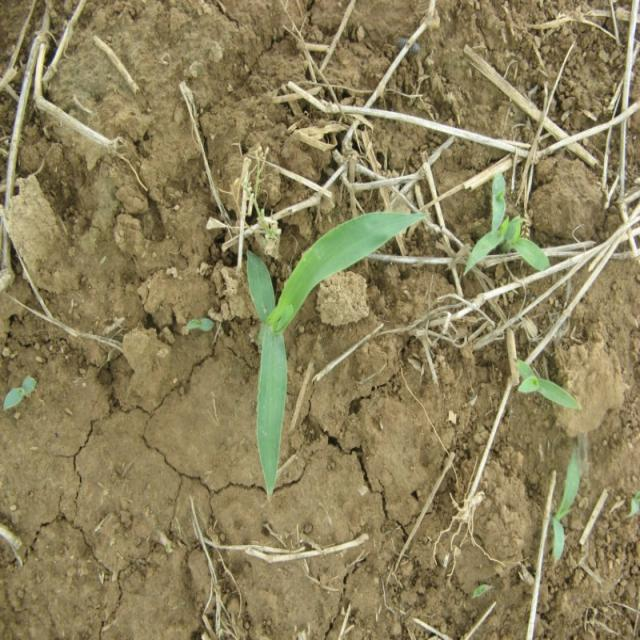bg: (242, 206, 429, 495)
